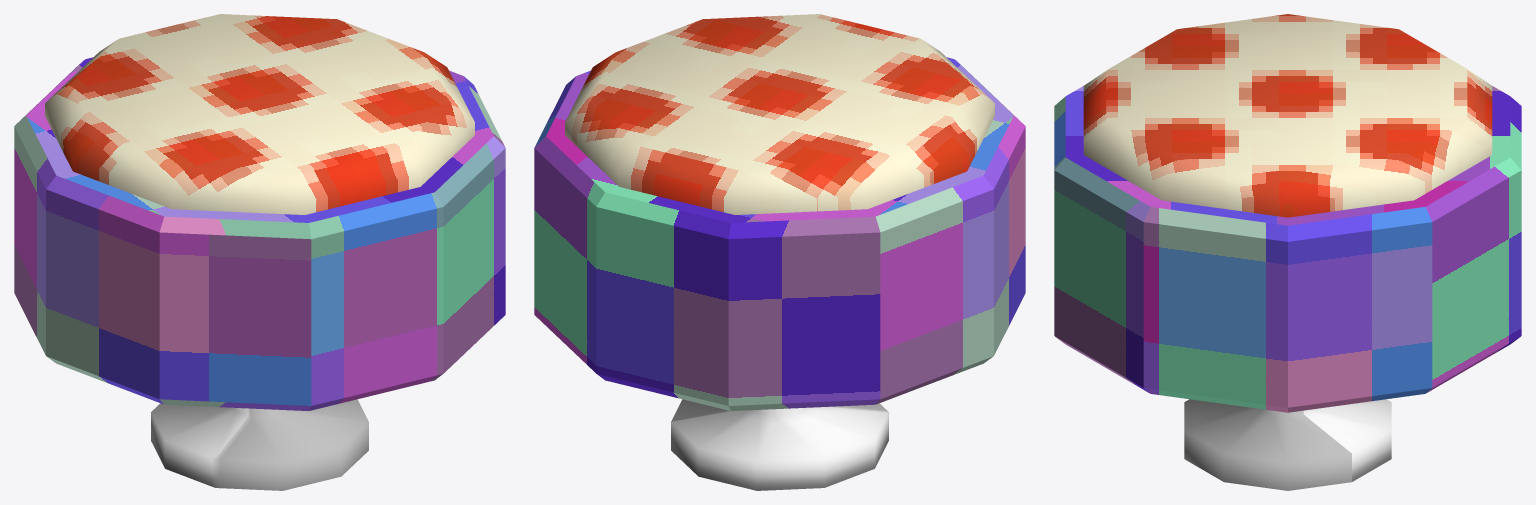
File: rmk_dot_stool_jwl.dae
3 renders of one model, left to right at view 1: azimuth 30°, elevation 25°; view 2: azimuth 150°, elevation 25°; view 3: azimuth 270°, elevation 25°, orthographic.
Parts seen in each view (by area): view 1: rmk_dot_stool_jwl; view 2: rmk_dot_stool_jwl; view 3: rmk_dot_stool_jwl.
Part boxes in pixels (box(x1,y1,x2,y2)): rmk_dot_stool_jwl: box(14, 14, 505, 490); rmk_dot_stool_jwl: box(534, 14, 1025, 490); rmk_dot_stool_jwl: box(1054, 14, 1521, 490).
Size of the model in its own units: 20.36 by 16.06 by 19.36.
3 materials, 3 textured.
